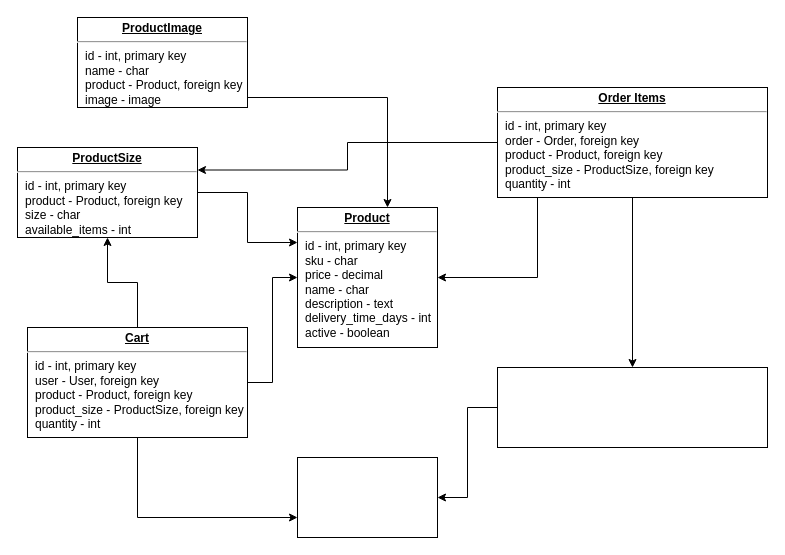
This 785x555 diagram has some shape labels left out. The centre of each missing label's shape, as x and y in pixels:
"Order id - int, primary key user - User, foreign key created_at - date" belongs at (x=632, y=407).
"User id - int, primary key username - int, unique password - password" belongs at (x=367, y=497).
